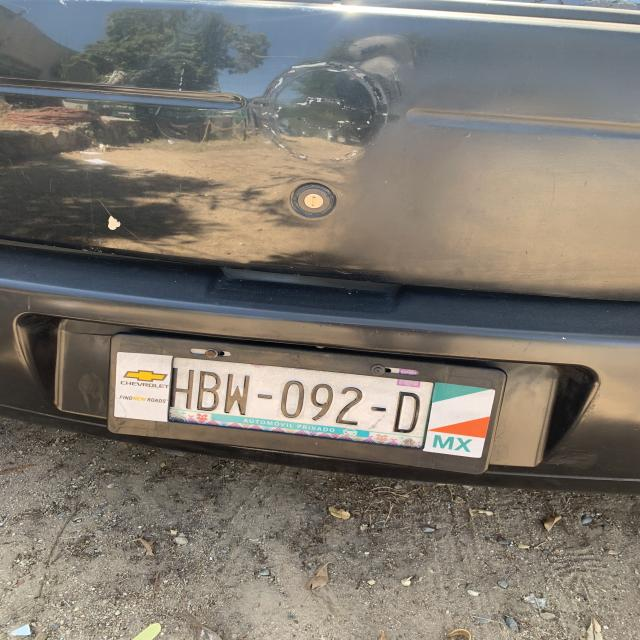placa: (163, 361, 426, 441)
